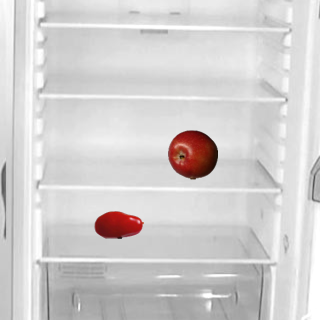Apple Braeburn: (167, 129, 217, 179)
Tomato 2: (93, 199, 143, 249)
